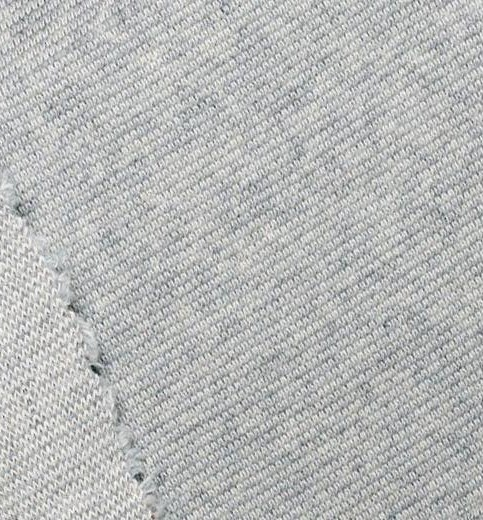slub: (0, 161, 175, 520)
